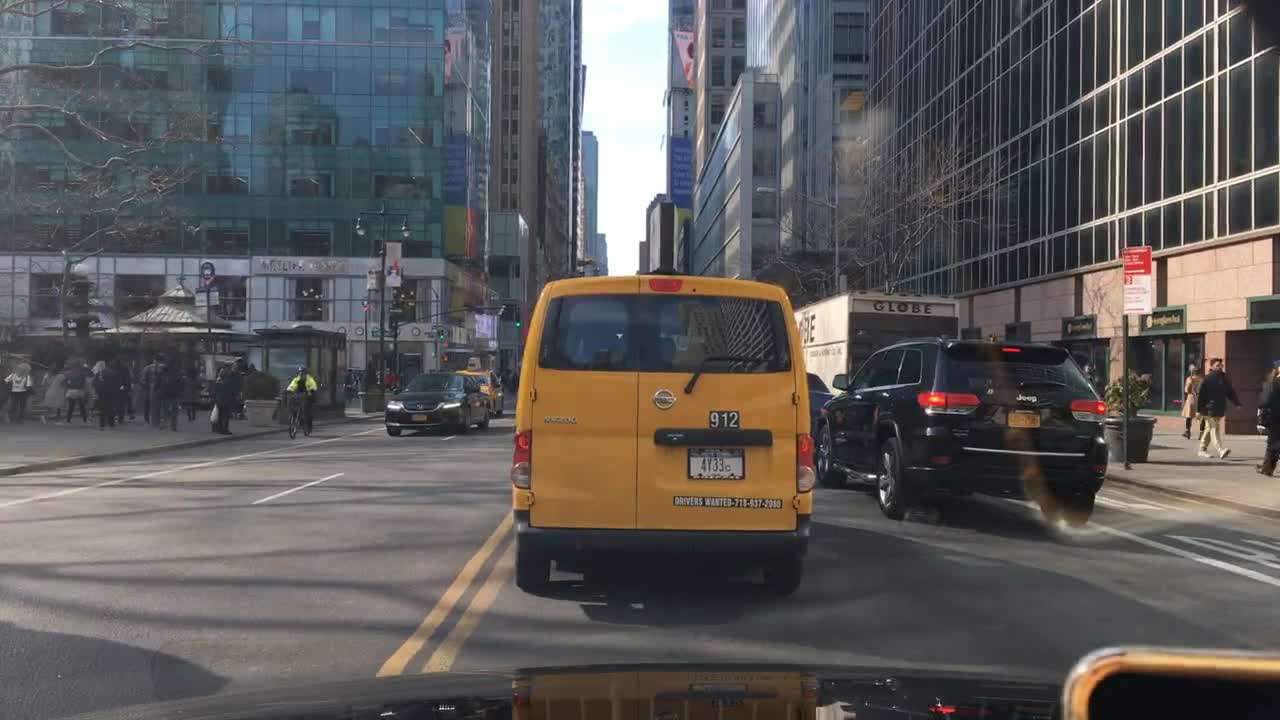bike: (288, 394, 311, 436)
car: (512, 265, 827, 592), (816, 334, 1111, 522), (381, 366, 487, 433), (454, 353, 504, 414), (805, 369, 833, 441)
person: (1194, 356, 1241, 456), (208, 356, 245, 433), (143, 354, 177, 429), (94, 357, 125, 428), (4, 360, 37, 425), (1260, 360, 1279, 472), (60, 359, 91, 422), (1181, 360, 1203, 437), (40, 359, 65, 420), (120, 359, 136, 420), (0, 360, 16, 420), (182, 370, 200, 422), (378, 366, 394, 386), (343, 368, 352, 403)
rider: (285, 362, 314, 413)
traffic light: (513, 307, 521, 328), (435, 328, 441, 343)
truck: (791, 288, 962, 394)
